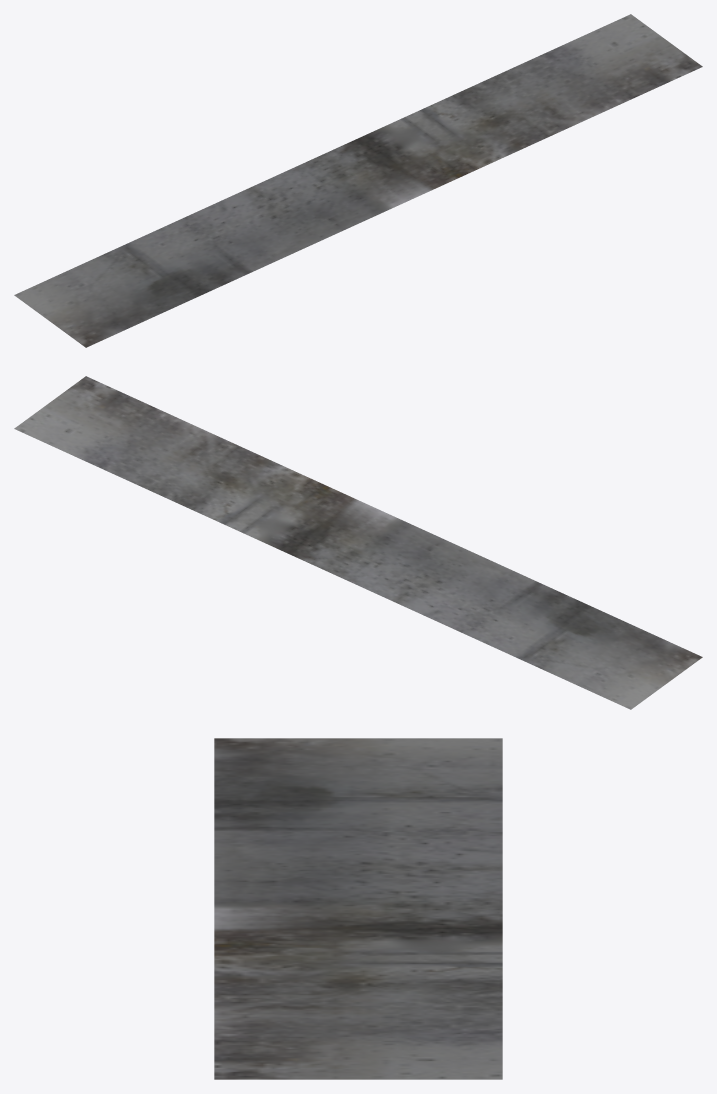
File: tunel_lodni_vrch_2.glb
3 renders of one model, top to bottom at view 1: azimuth 30°, elevation 25°; view 2: azimuth 150°, elevation 25°; view 3: azimuth 270°, elevation 25°, orthographic. The views are drawn at different scales.
Visible parts, largest first — view 1: tunel_lodni_vrch_2; view 2: tunel_lodni_vrch_2; view 3: tunel_lodni_vrch_2.
Part boxes in pixels (x1,y1,x2,y2): tunel_lodni_vrch_2: [14, 14, 702, 347]; tunel_lodni_vrch_2: [14, 376, 702, 709]; tunel_lodni_vrch_2: [214, 738, 502, 1079].
Bounding box in the file's own units: 4.95 × 1 × 1.
Materials: 1 (1 with a texture image).
